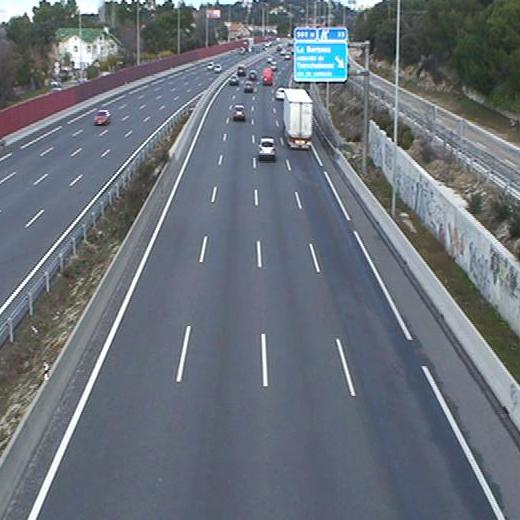car: (259, 138, 276, 158), (234, 105, 245, 120), (242, 79, 253, 93), (229, 73, 239, 85), (249, 69, 257, 80)
truck: (282, 89, 313, 147)
van: (261, 67, 273, 85)
